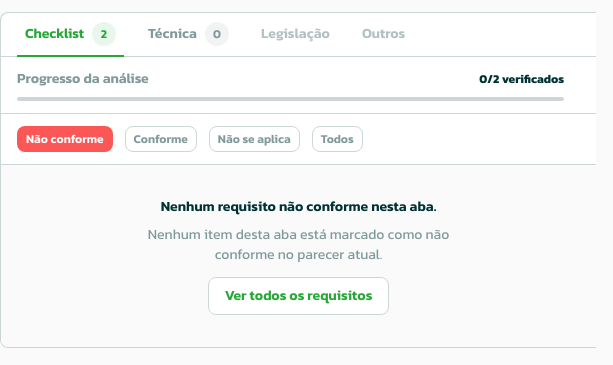
it: PainelRevisao › filtro por status (RF-009) › aba sem não conformes no filtro padrão → mensagem + 'Ver todos os requisitos'
Expected: the text "Nenhum requisito não conforme nesta aba." is shown, [161, 196, 436, 217]
Expected: the text "Requisito k1" is not shown
Click the button "Ver todos os requisitos": (298, 296) [208, 277, 389, 315]
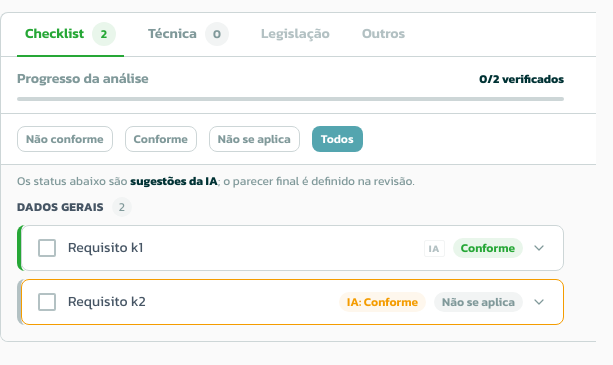
Result: the text "Requisito k1" is shown at [68, 237, 143, 258]
